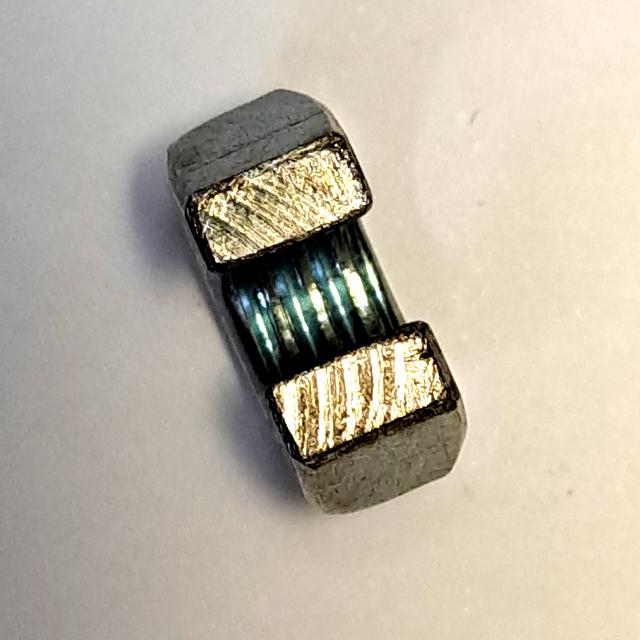Side-Fracture: (156, 60, 502, 535)
